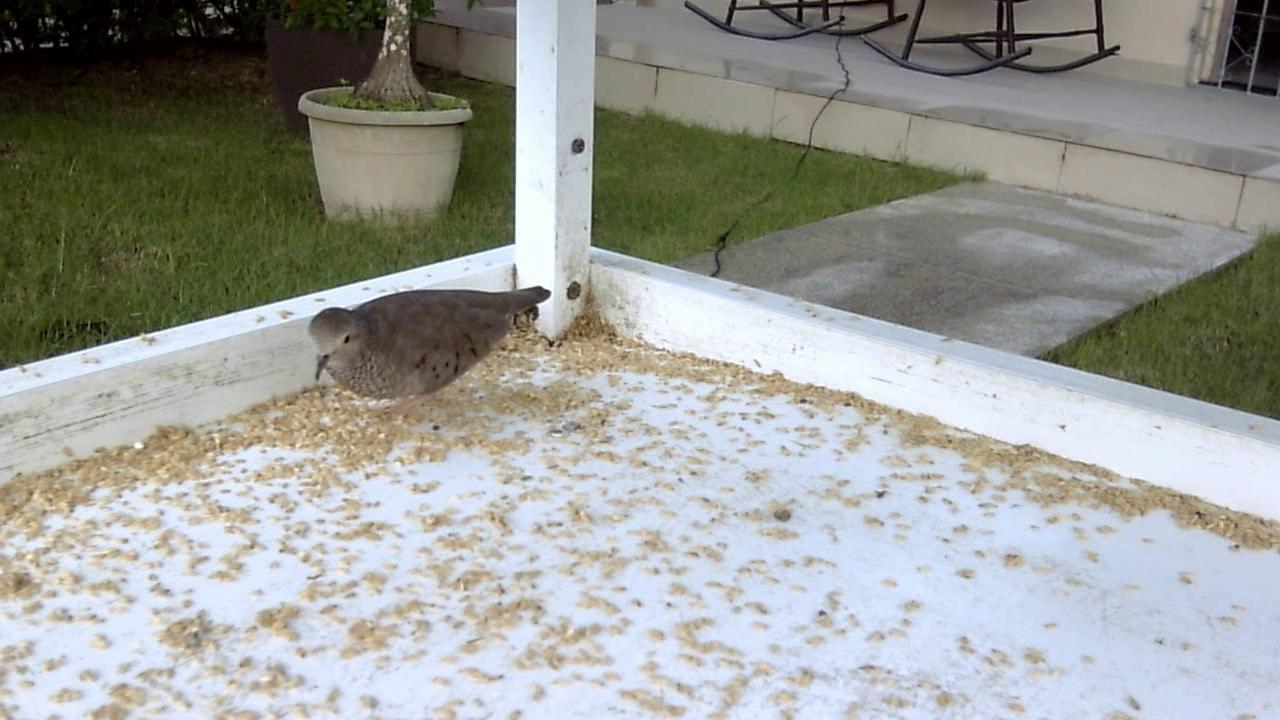rolinha: (302, 280, 551, 426)
